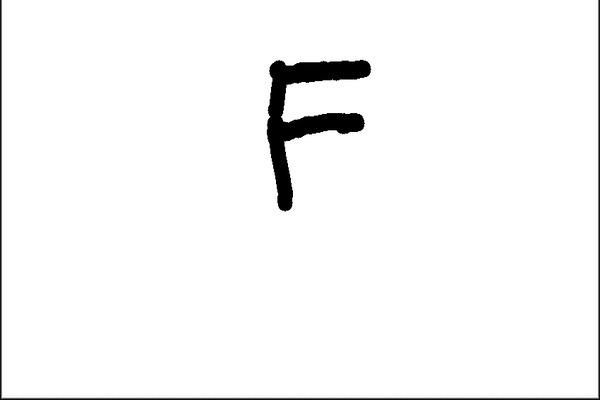F: (259, 56, 376, 215)
